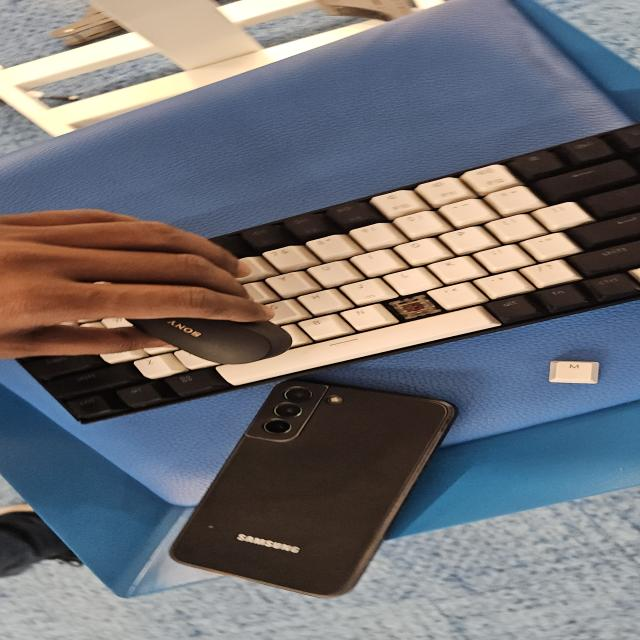C: (392, 299, 438, 317), (395, 300, 433, 318), (398, 300, 427, 315)
